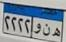2: (24, 18, 30, 35), (18, 17, 24, 34), (11, 16, 17, 32), (4, 15, 10, 31)
haa: (51, 26, 60, 38)
noon: (43, 22, 51, 37)
waw: (34, 23, 41, 35)
